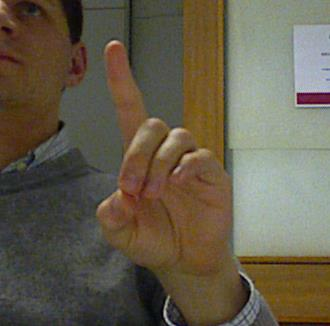up: (95, 39, 235, 278)
